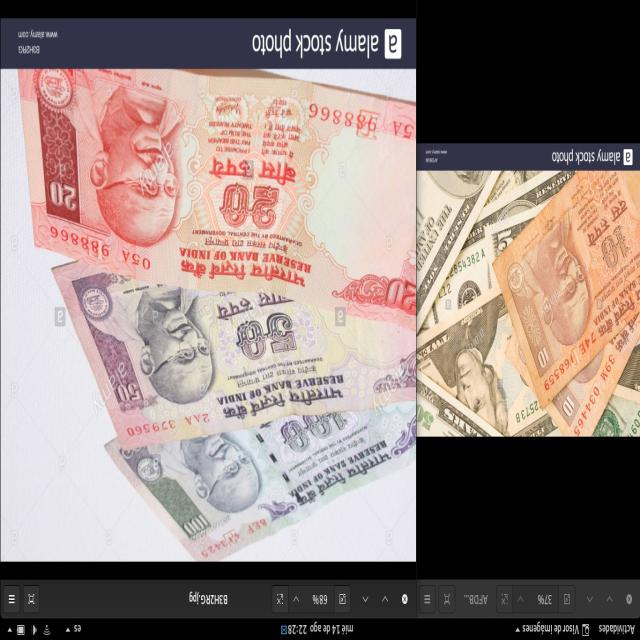20IndianRupees: (29, 77, 418, 333)
